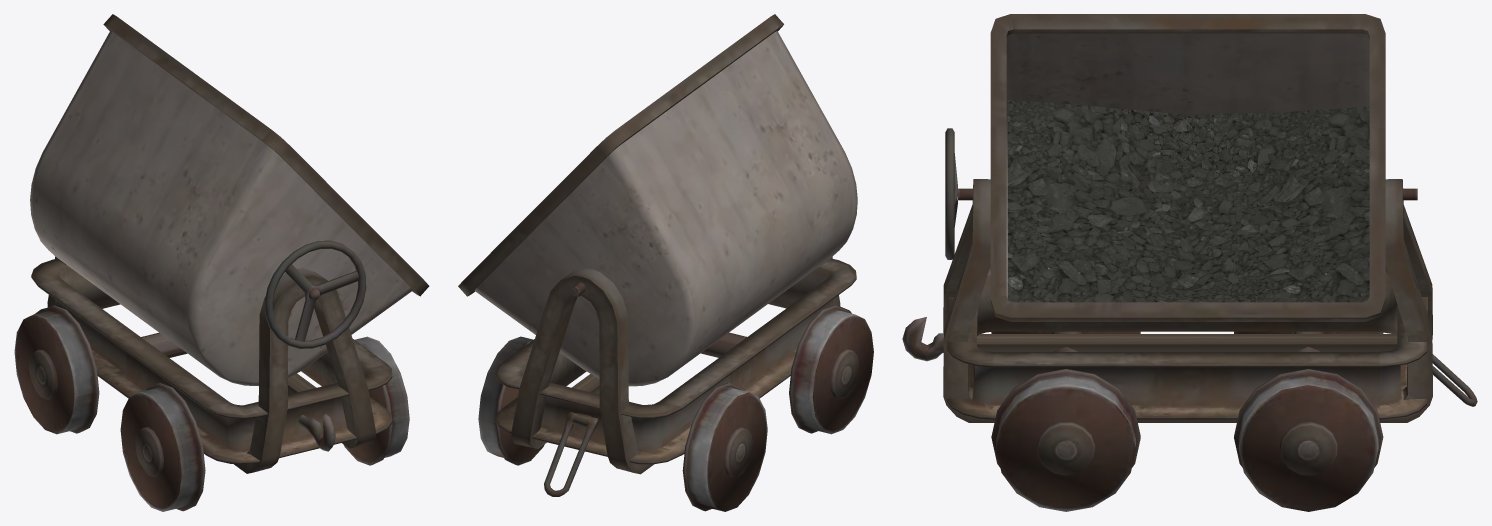
Rendered from minecart.glb.
The picture shows the model from 3 angles, left to right: view 1: azimuth 30°, elevation 25°; view 2: azimuth 150°, elevation 25°; view 3: azimuth 270°, elevation 25°; orthographic projection. The views are drawn at different scales.
Visible parts, largest first — view 1: minecart_a_loot_LOD0; view 2: minecart_a_loot_LOD0; view 3: minecart_a_loot_LOD0.
Part boxes in pixels (<box>): minecart_a_loot_LOD0: <box>14,14,429,511</box>; minecart_a_loot_LOD0: <box>458,14,873,511</box>; minecart_a_loot_LOD0: <box>902,14,1477,511</box>.
Size of the model in its own units: 1.38 by 1.95 by 2.37.
2 materials, 2 textured.
